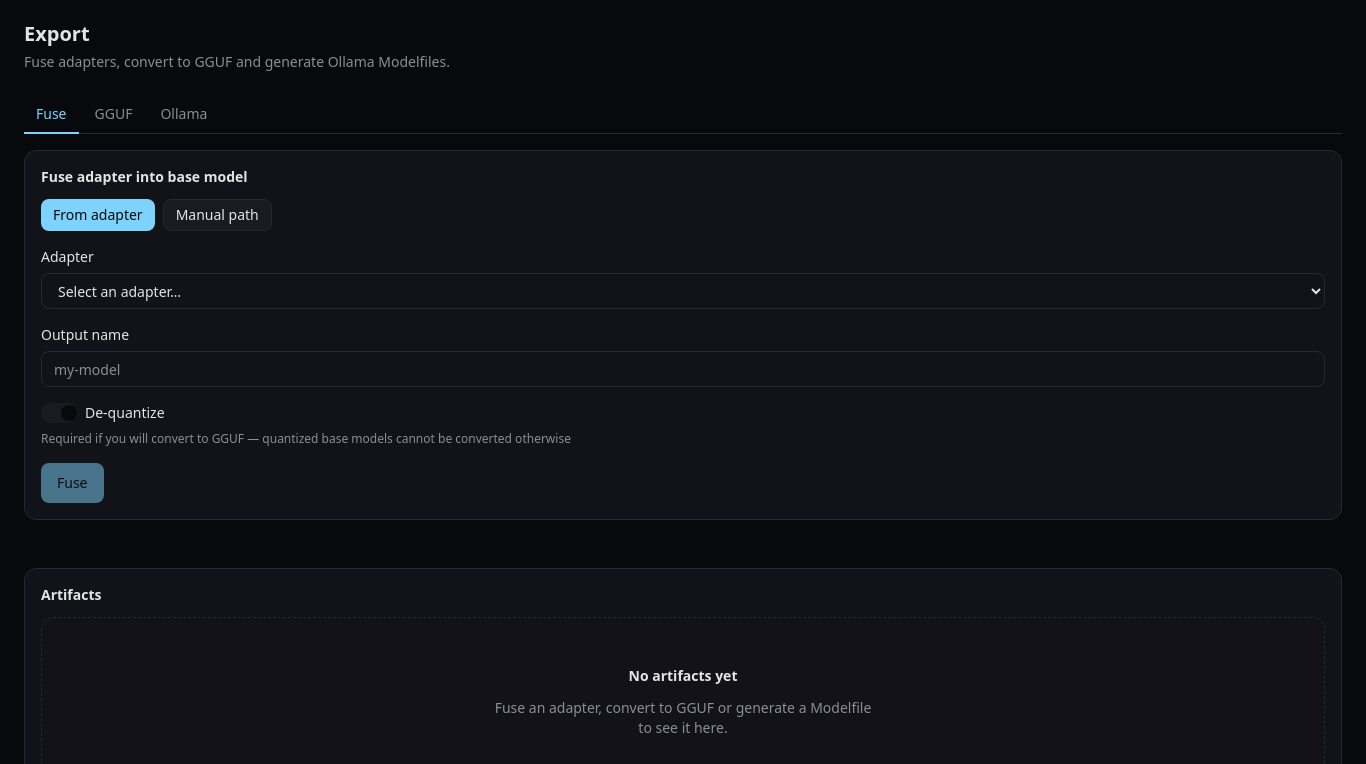
Test case: ExportPage › runs a fuse job end to end and refreshes the artifact table on completion
expect the heading "No artifacts yet" is shown: met, box [628,666,737,686]
Select "my-run — mlx-community/SmolLM-135M-Instruct-4bit" in the dropdown at {"x": 683, "y": 291}, box [41,273,1325,309]
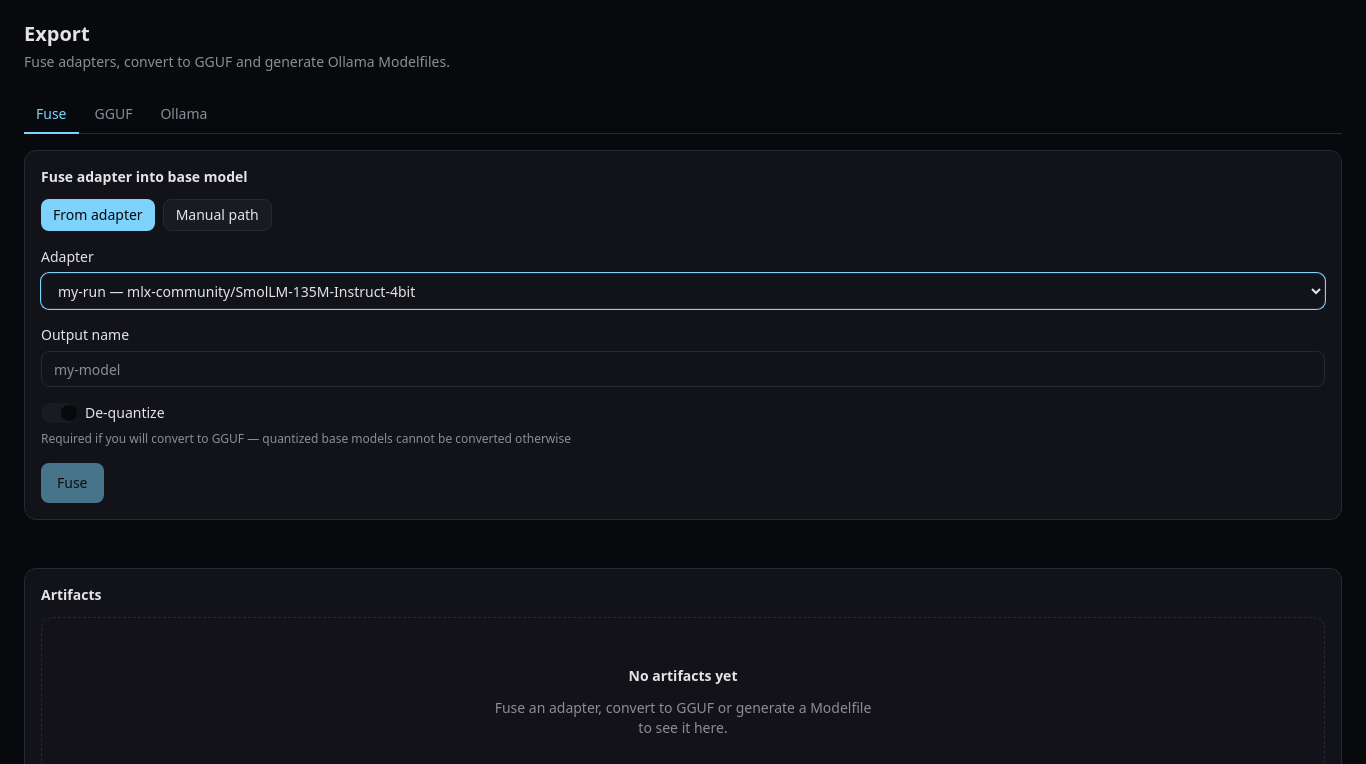
Type "fused-out" into the field with placeholder "my-model" at {"x": 683, "y": 369}, box [41,351,1325,387]
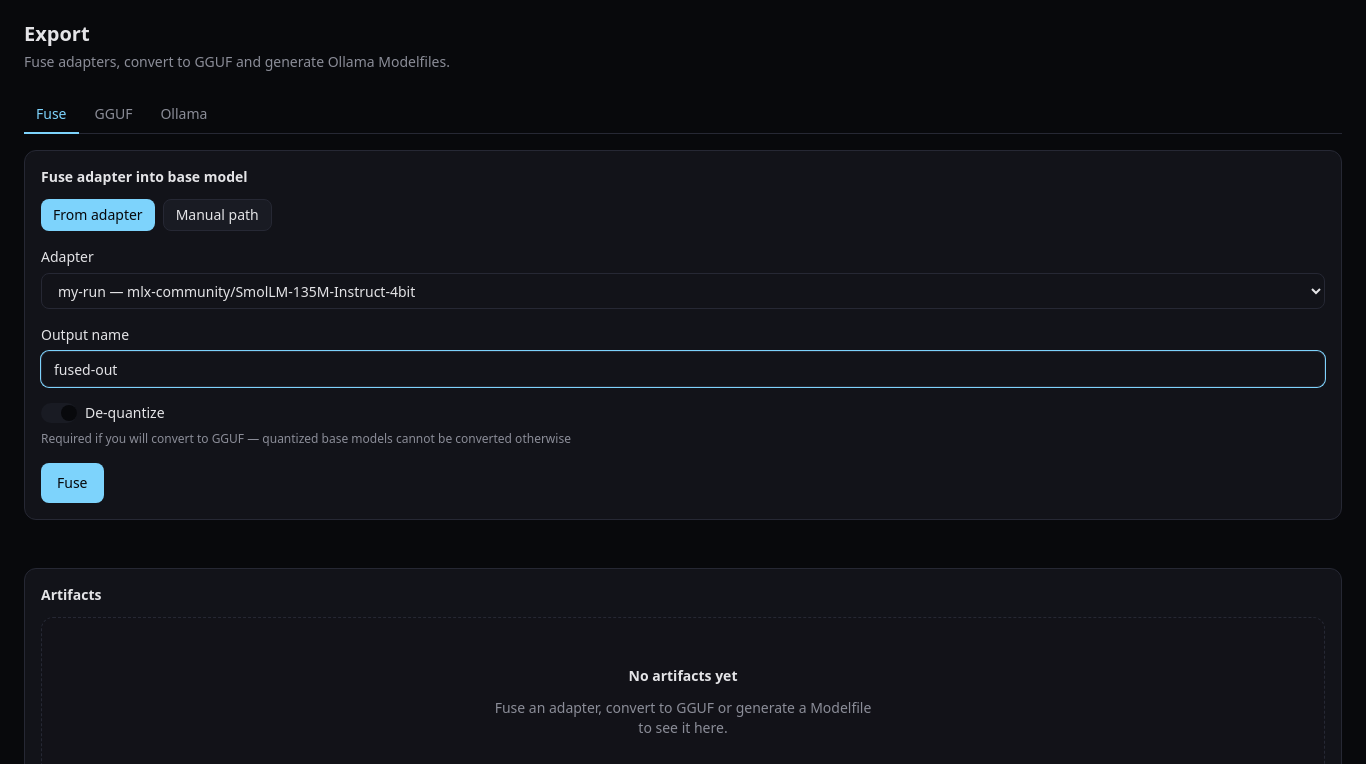
Click the button "Fuse" at {"x": 72, "y": 483}, box [41,463,104,503]
(page scrolled)
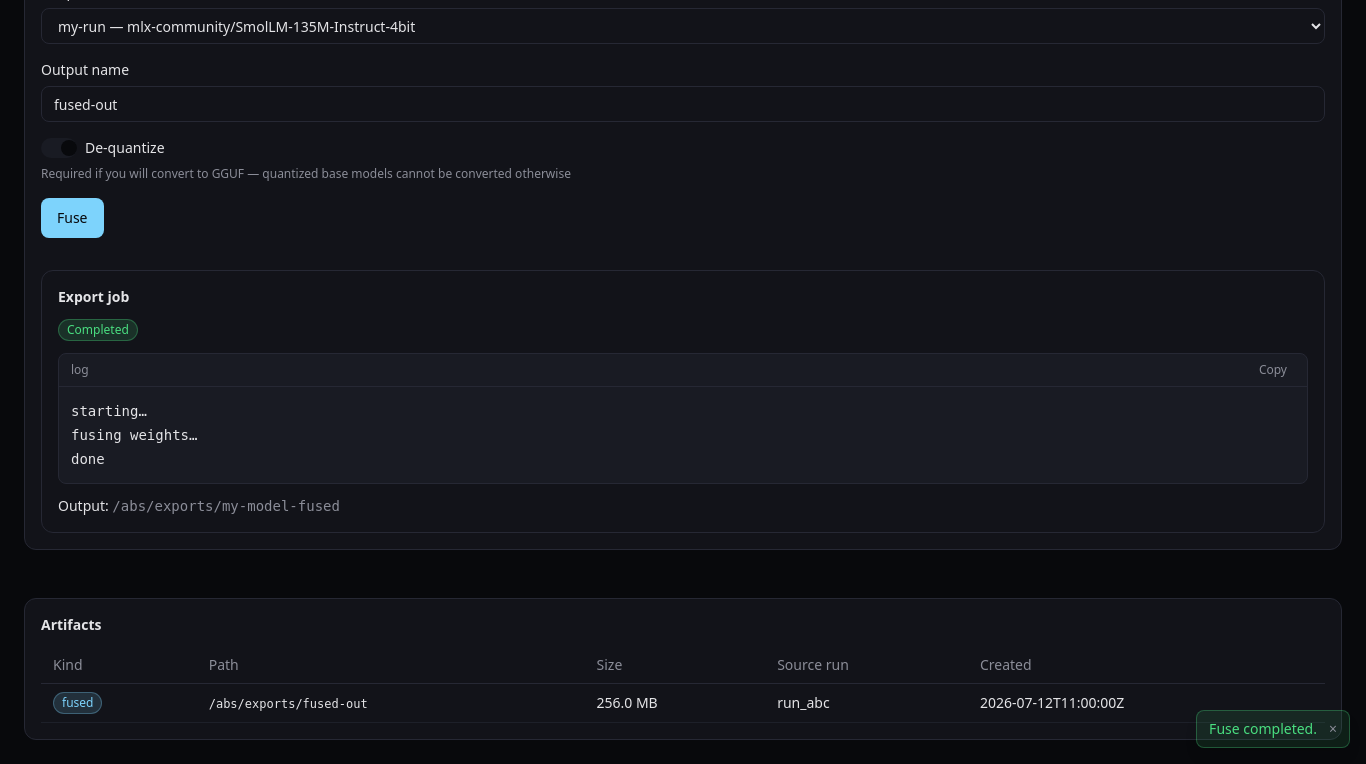
expect the heading "Export job" is shown: met, box [58,287,129,306]
expect the text "Completed" is shown: met, box [58,319,138,341]
expect the text "/abs/exports/my-model-fused" is shown: met, box [112,498,340,514]
